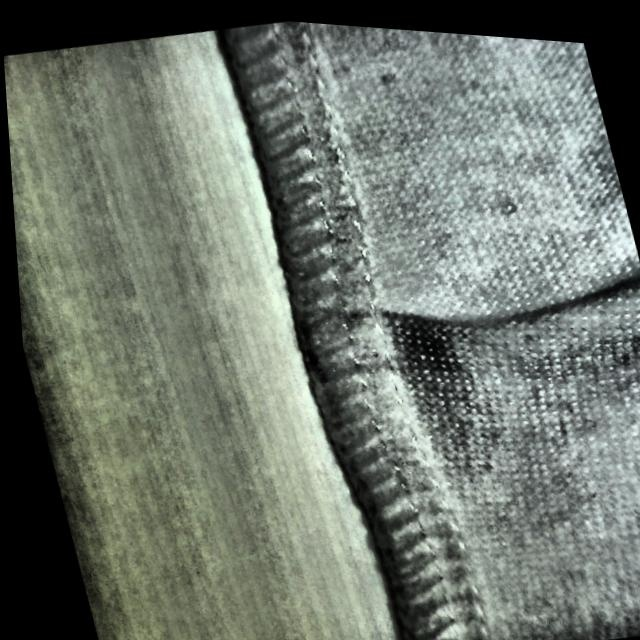seam: (268, 199, 637, 459)
